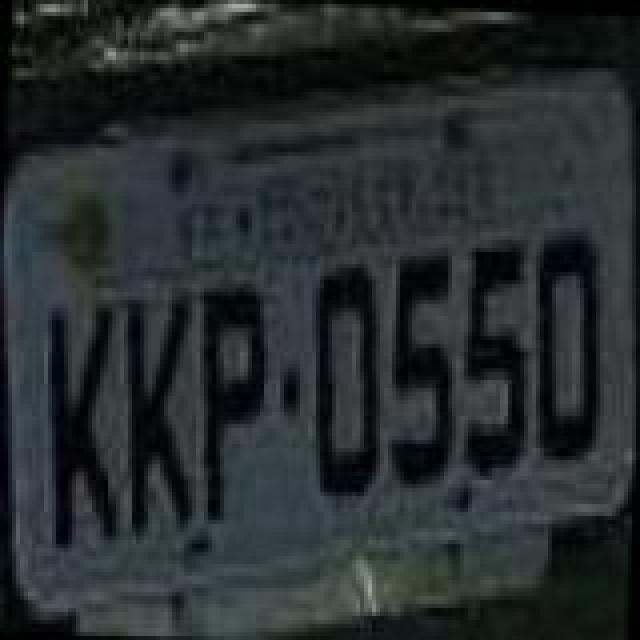5: (384, 246, 464, 486), (456, 236, 536, 476)
K: (38, 292, 126, 548), (112, 282, 196, 538)
O: (306, 262, 390, 506), (526, 218, 606, 462)
P: (192, 286, 276, 530)
